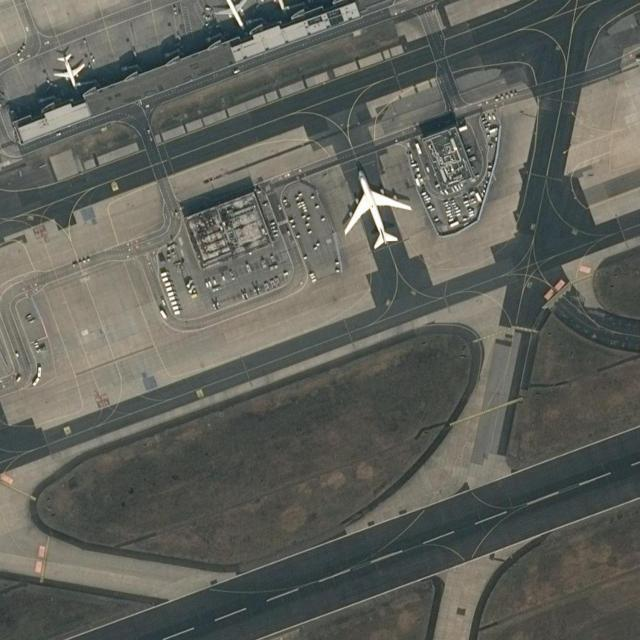Aircraft: (340, 163, 414, 249), (50, 49, 88, 91), (205, 0, 249, 29)
